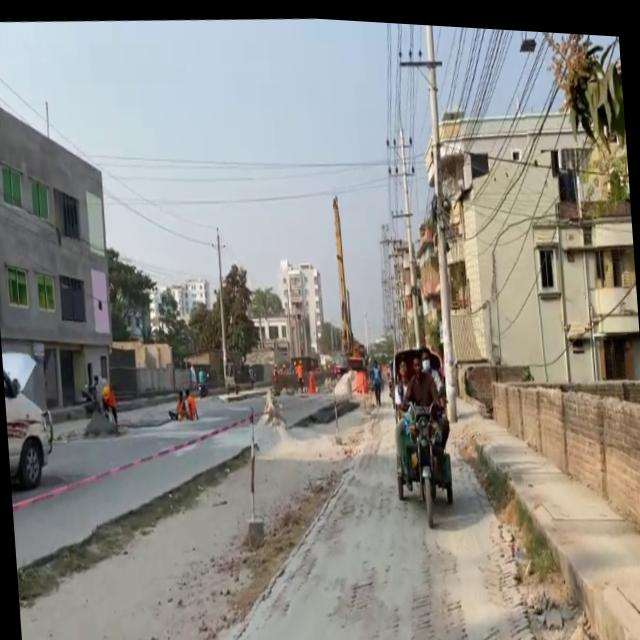Construction-barrier: (191, 383, 400, 640), (452, 385, 640, 640)
Fallen-tree: (389, 388, 457, 526), (79, 374, 104, 415)
Garbage: (236, 400, 266, 546)
Light-pole: (418, 19, 462, 417)
Pothole: (191, 350, 582, 640)
Traffic-cone: (1, 347, 57, 492), (329, 189, 367, 368)
Traffic-light: (488, 363, 640, 542)
